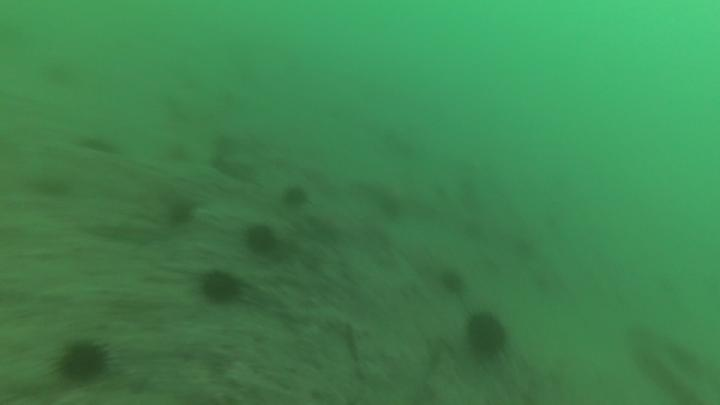echinus: (469, 315, 507, 357), (63, 347, 108, 382), (203, 273, 241, 304), (169, 201, 195, 225), (250, 228, 272, 256), (442, 269, 465, 295), (284, 190, 309, 207)
starfish: (115, 222, 170, 247)
